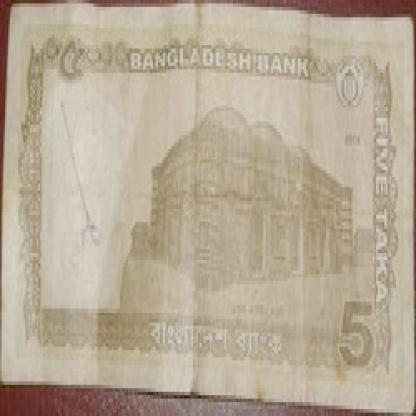Five Taka: (371, 111, 393, 308), (338, 291, 381, 378), (56, 31, 85, 90)
